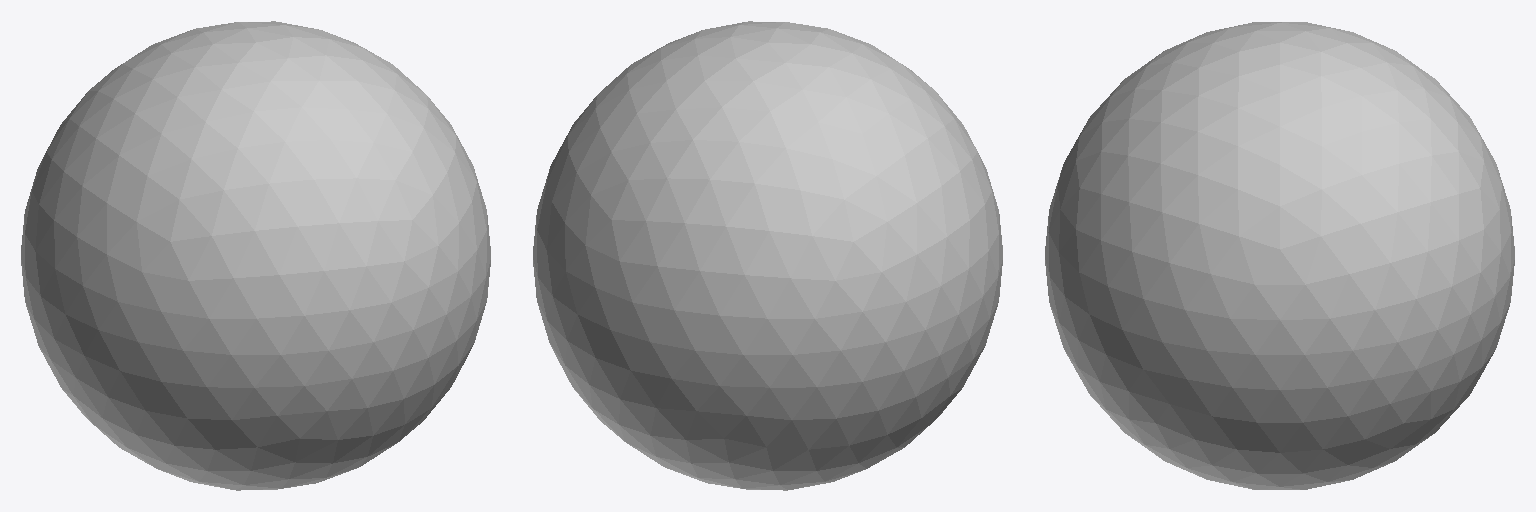
3 views of the same model, side by side, from view 1: azimuth 30°, elevation 25°; view 2: azimuth 150°, elevation 25°; view 3: azimuth 270°, elevation 25° (orthographic).
Parts seen in each view (by area): view 1: GeoSphere01; view 2: GeoSphere01; view 3: GeoSphere01.
Part boxes in pixels (left/top/right/bottom): GeoSphere01: left=21, top=21, right=490, bottom=490; GeoSphere01: left=533, top=21, right=1002, bottom=490; GeoSphere01: left=1045, top=22, right=1514, bottom=489.
Size of the model in its own units: 70.36 by 70.75 by 70.75.